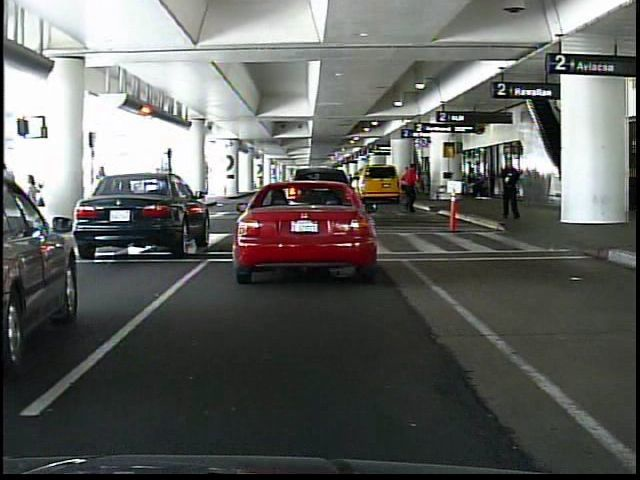person: (88, 162, 120, 242), (22, 170, 44, 239), (502, 155, 523, 223), (404, 164, 422, 217), (405, 165, 418, 202)
